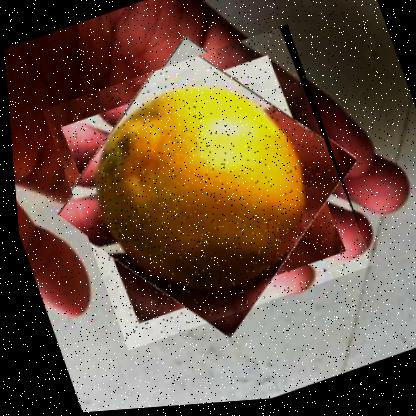orange: (36, 23, 373, 356)
